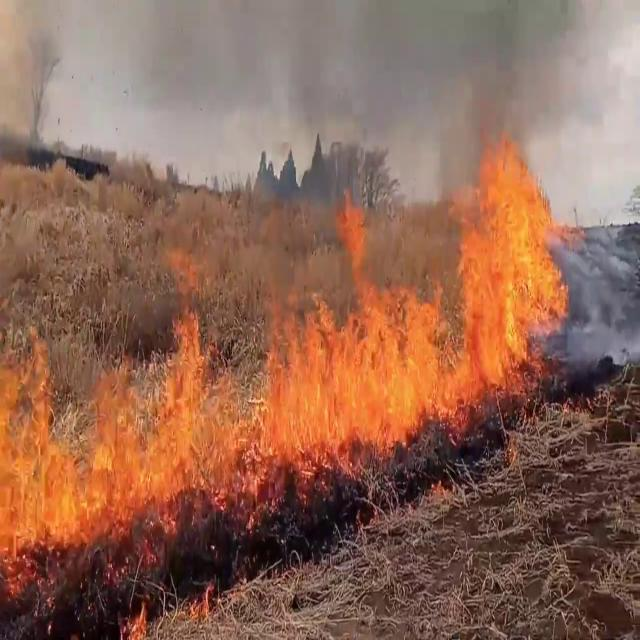Fire: (0, 247, 363, 578), (262, 126, 576, 462)
